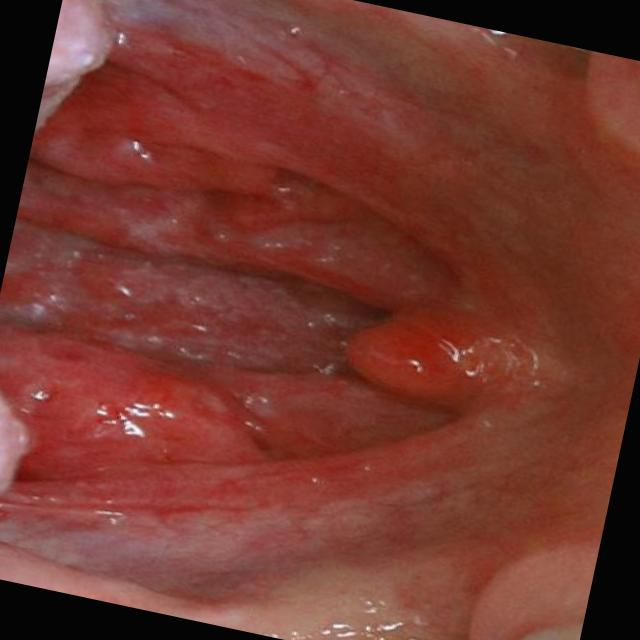Non Pharyngitis: (0, 321, 338, 538), (24, 70, 365, 244)
